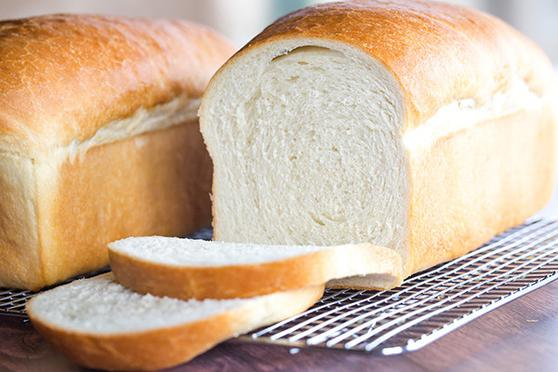white_bread: (198, 1, 558, 272)
